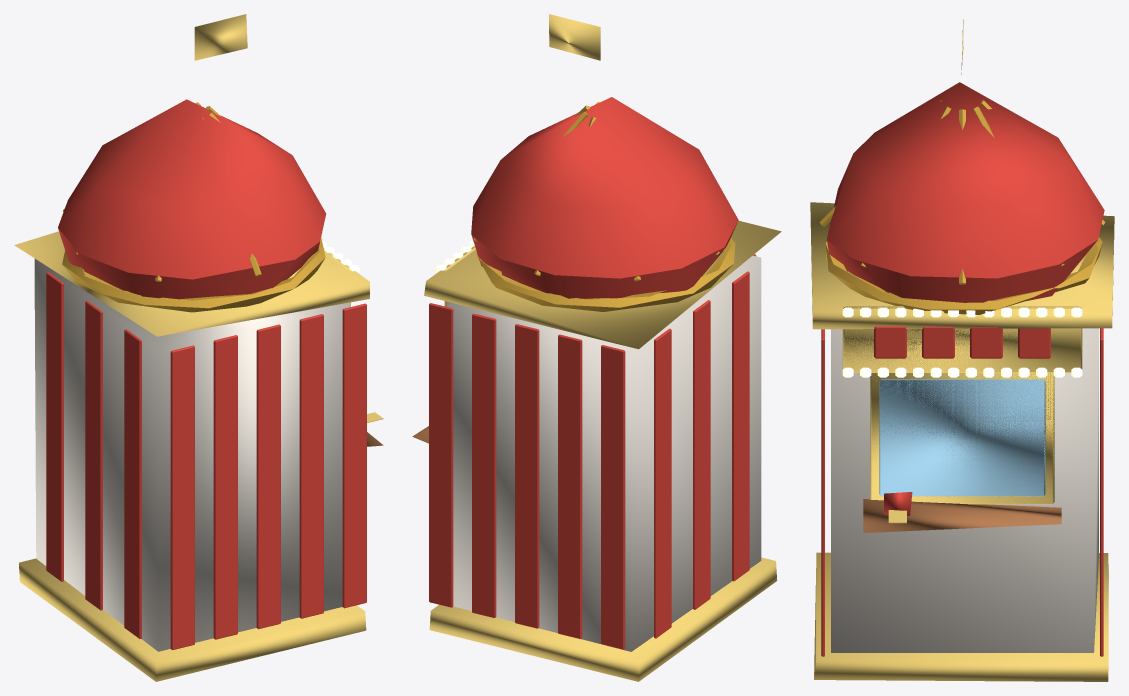
File: ticket_booth.glb
3 renders of one model, left to right at view 1: azimuth 30°, elevation 25°; view 2: azimuth 150°, elevation 25°; view 3: azimuth 270°, elevation 25°, orthographic. The views are drawn at different scales.
Visible parts, largest first — view 1: ticket_booth; view 2: ticket_booth; view 3: ticket_booth.
Boxes of the visible parts, x1,y1,x2,y2 form: ticket_booth: (14, 14, 383, 681); ticket_booth: (412, 14, 781, 681); ticket_booth: (810, 19, 1114, 681).
Size of the model in its own units: 1.82 by 3.68 by 1.65.
1 material, 1 textured.
